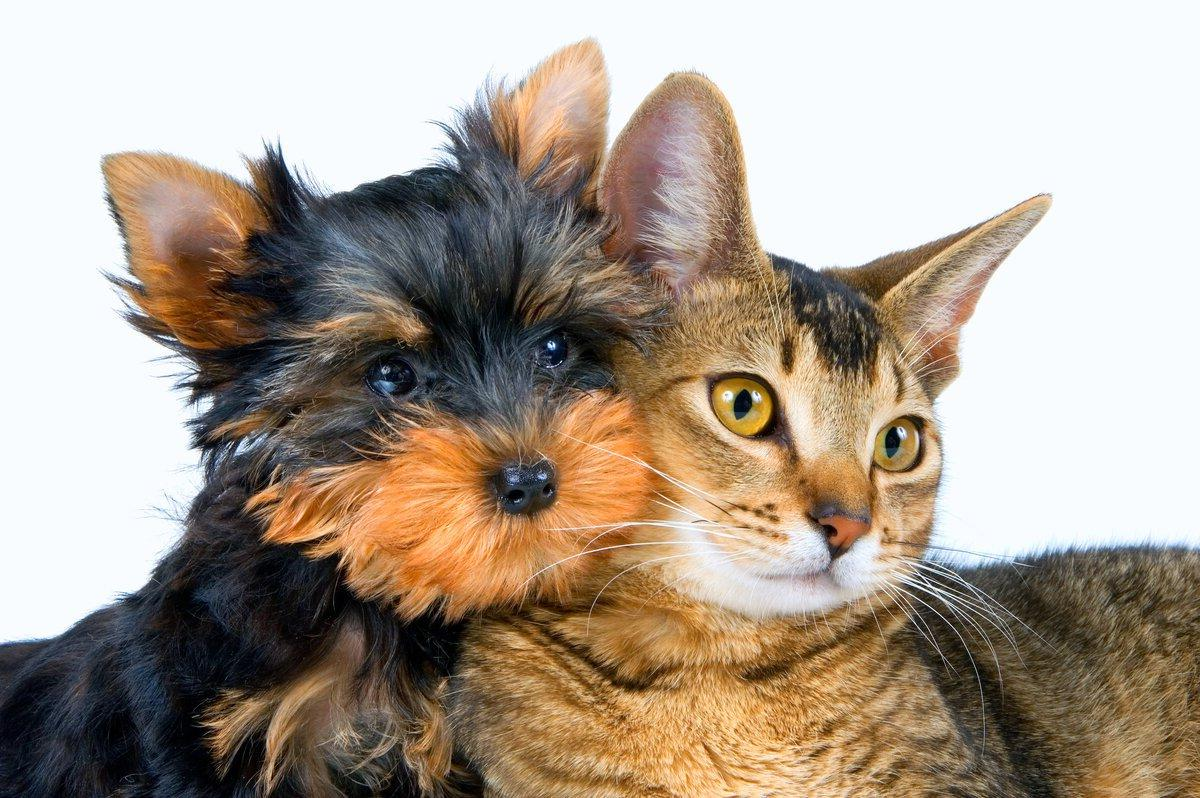animals: (0, 32, 622, 788), (572, 53, 1196, 798)
